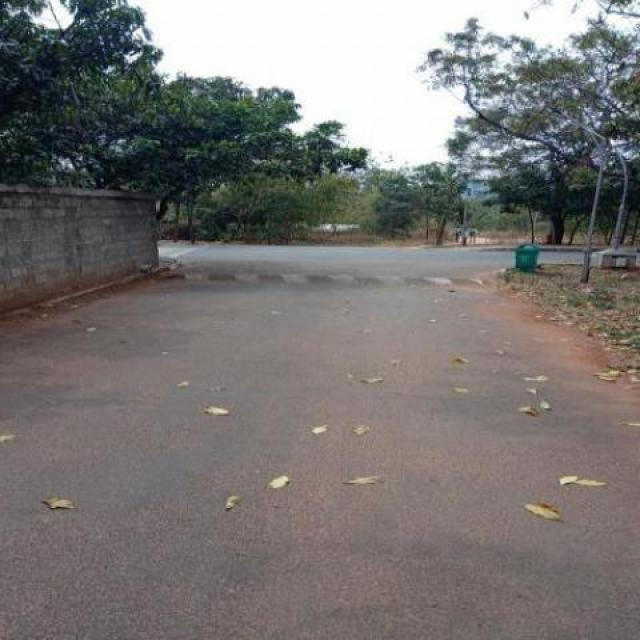Speed Bump: (152, 270, 516, 285)
